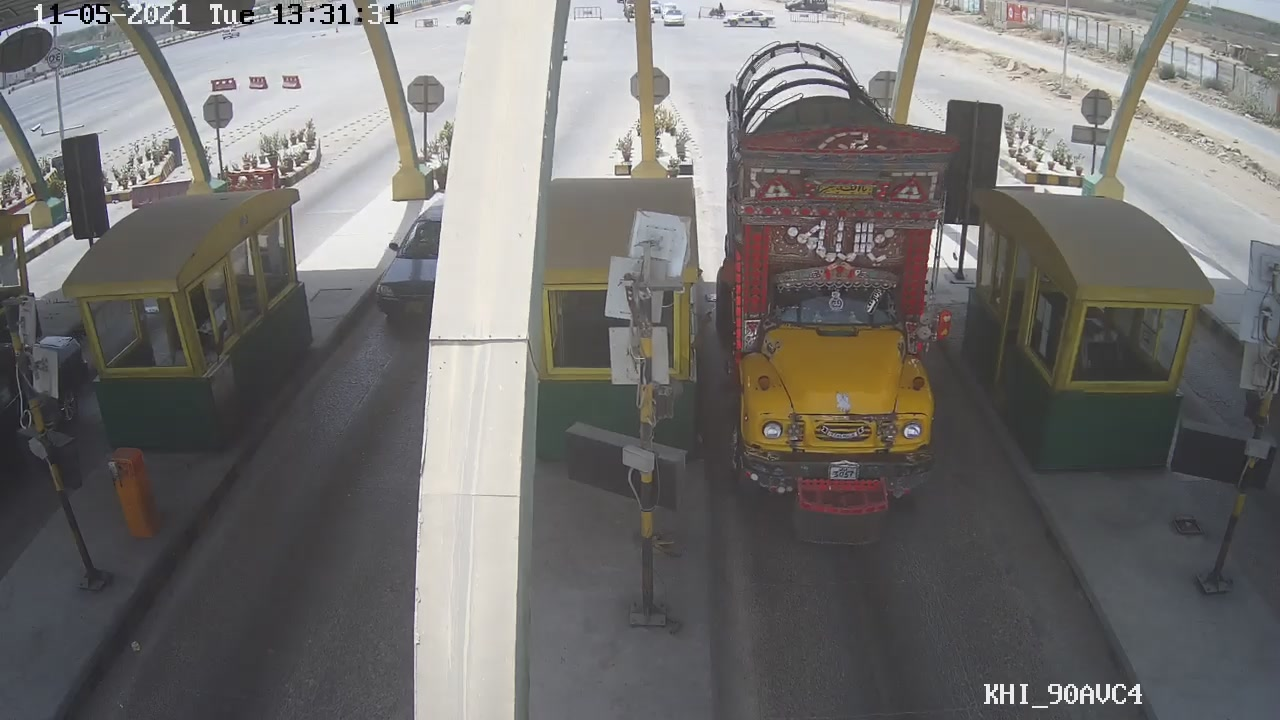F5: (714, 38, 959, 548)
